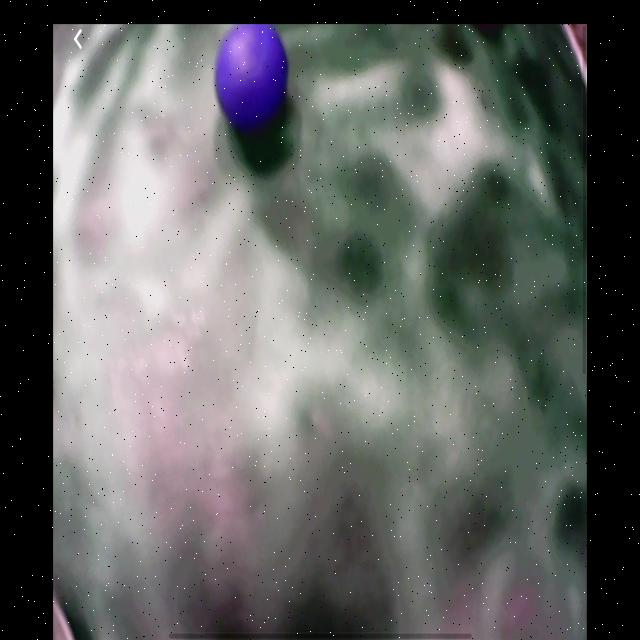ball: (217, 27, 289, 129)
